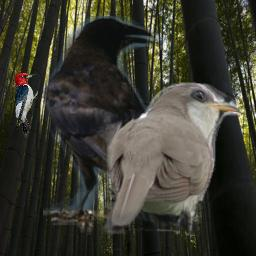Crow: (43, 16, 198, 235)
Cuckoo: (101, 82, 241, 236)
Woodpecker: (13, 73, 40, 139)
